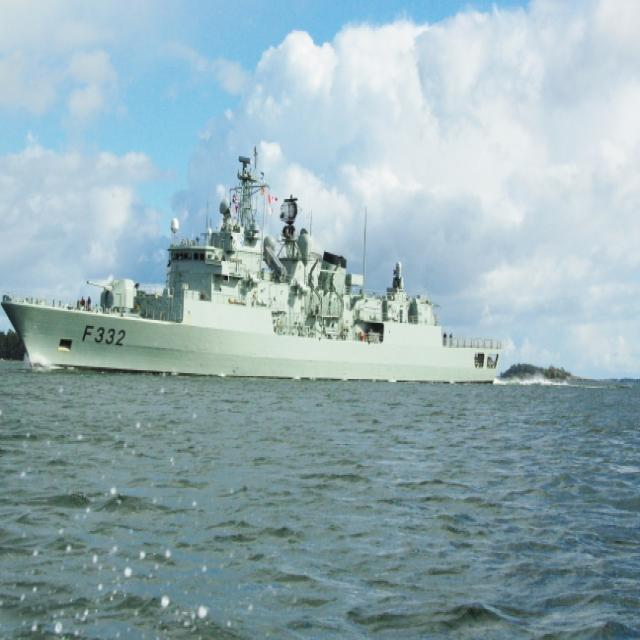Fragata: (1, 144, 505, 387)
